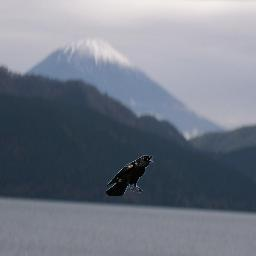Crow: (106, 155, 154, 196)
